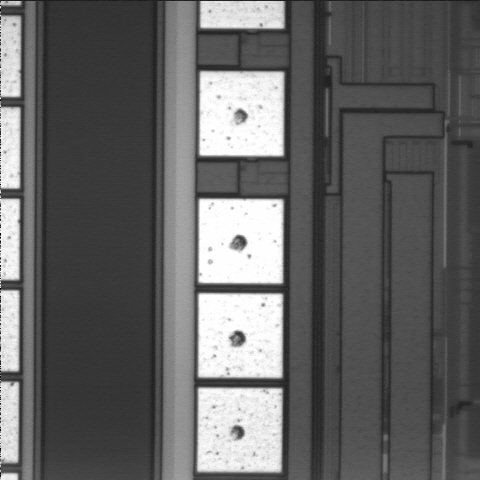pad: (199, 71, 284, 156), (198, 199, 283, 284), (198, 293, 283, 378), (197, 388, 282, 472)
